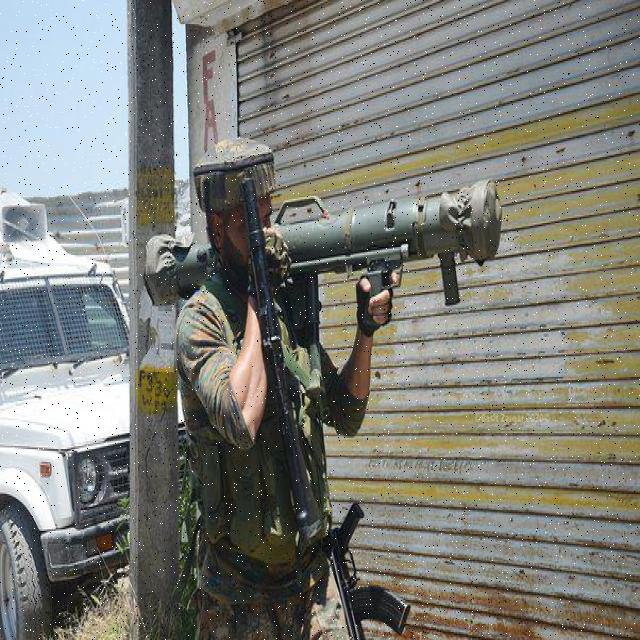bazooka: (142, 173, 509, 316)
